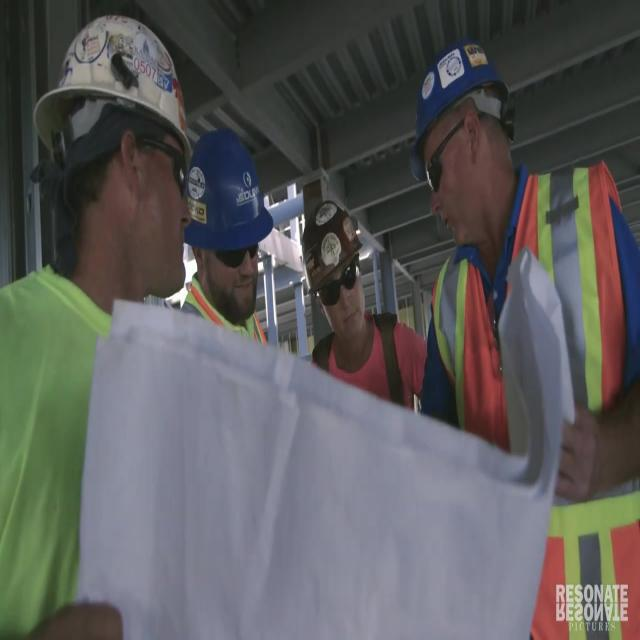Reflective-Jacket: (430, 158, 638, 540)
Safety-Helmet: (30, 8, 196, 173), (403, 30, 519, 156), (177, 122, 276, 263), (293, 190, 371, 291)
